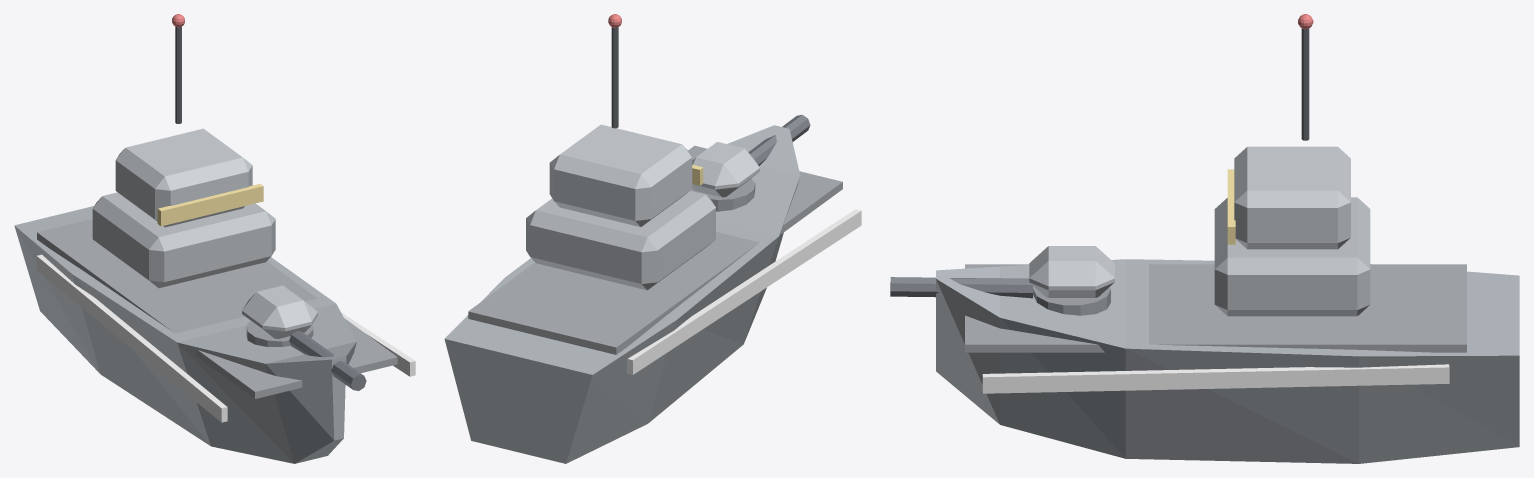
The model's file is gunboat.glb.
The picture shows the model from 3 angles, left to right: view 1: azimuth 30°, elevation 25°; view 2: azimuth 150°, elevation 25°; view 3: azimuth 270°, elevation 25°; orthographic projection. The views are drawn at different scales.
Parts seen in each view (by area): view 1: main, turret; view 2: main, turret; view 3: main, turret.
Boxes of the visible parts, left/top/right/bottom form: main: left=14, top=14, right=415, bottom=463; turret: left=242, top=285, right=366, bottom=390; main: left=444, top=14, right=861, bottom=463; turret: left=690, top=114, right=810, bottom=211; main: left=936, top=14, right=1519, bottom=463; turret: left=890, top=246, right=1114, bottom=315.
Bounding box in the file's own units: 0.398 × 0.712 × 0.9702.
